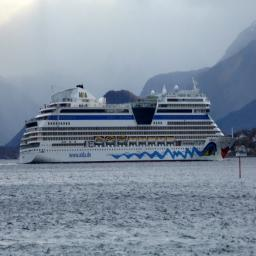cruises: (16, 82, 240, 167)
